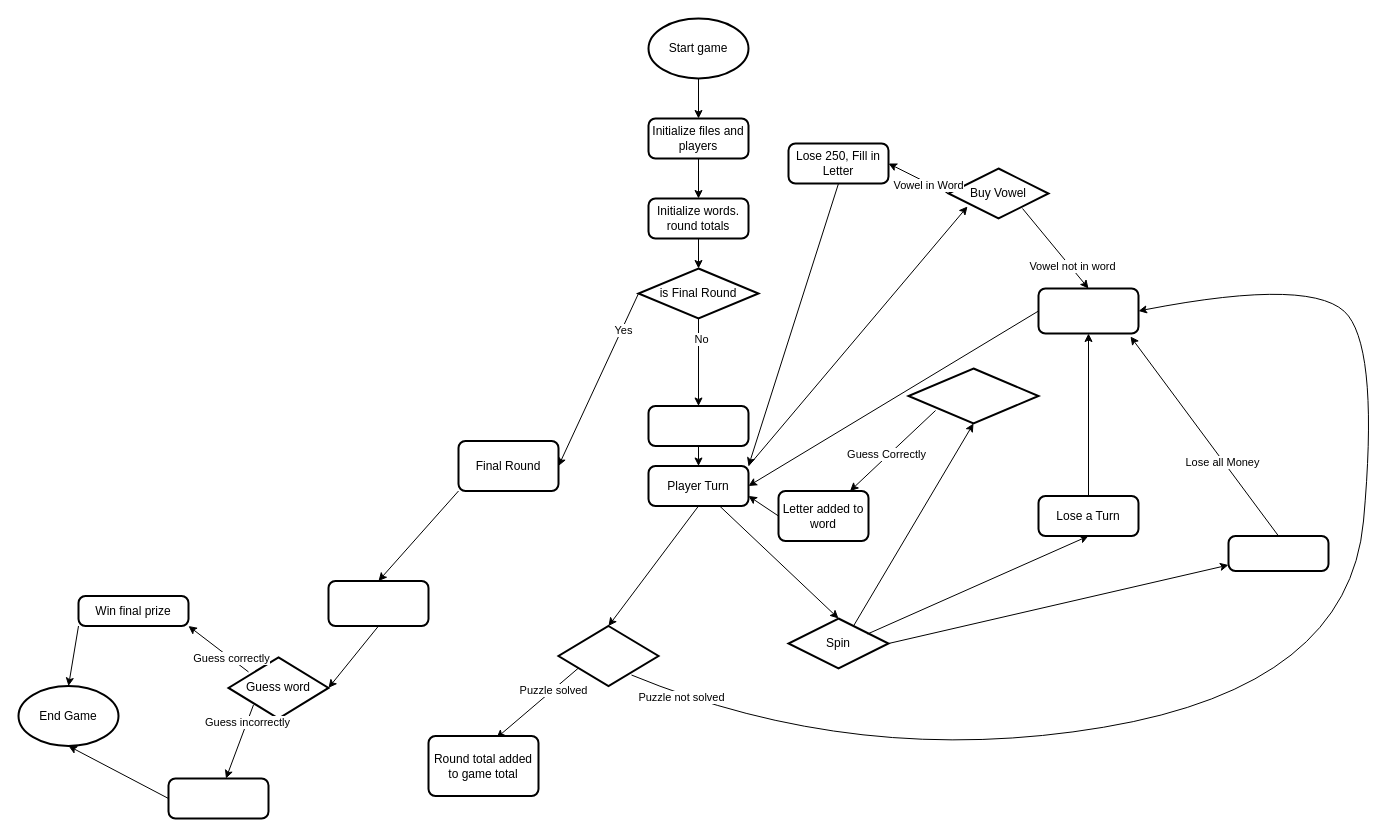
Some shapes in this 1386 by 836 pixel diagram are drawn without their labels. The box of each missing label's shape, as (x1, y1, x2, y2) in pixels:
Attempt Puzzle: (557, 624, 659, 686)
Bankrupt: (1227, 534, 1329, 572)
Don't win final prize: (167, 777, 269, 819)
Guess Consonant: (907, 367, 1039, 424)
Initialize word, get highest scorer: (327, 580, 429, 626)
Next Player Turn: (1037, 287, 1139, 334)
Start Round: (647, 404, 749, 446)
